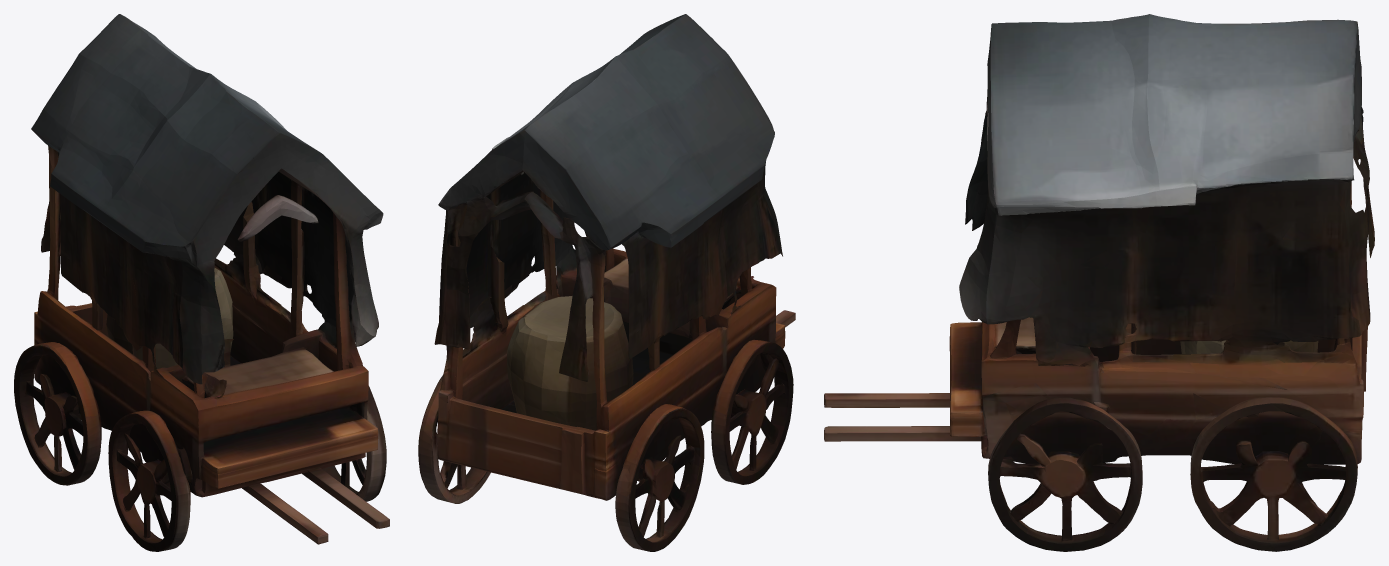
The model's file is 3deditformer_t03.glb.
3 views of the same model, side by side, from view 1: azimuth 30°, elevation 25°; view 2: azimuth 150°, elevation 25°; view 3: azimuth 270°, elevation 25° (orthographic). The views are drawn at different scales.
Parts seen in each view (by area): view 1: geometry_0; view 2: geometry_0; view 3: geometry_0.
Boxes of the visible parts, x1=… form: geometry_0: x1=14, y1=14, x2=389, y2=551; geometry_0: x1=418, y1=14, x2=795, y2=551; geometry_0: x1=824, y1=14, x2=1374, y2=551.
Bounding box in the file's own units: 1.02 × 1.91 × 1.99.
1 material, 1 textured.
